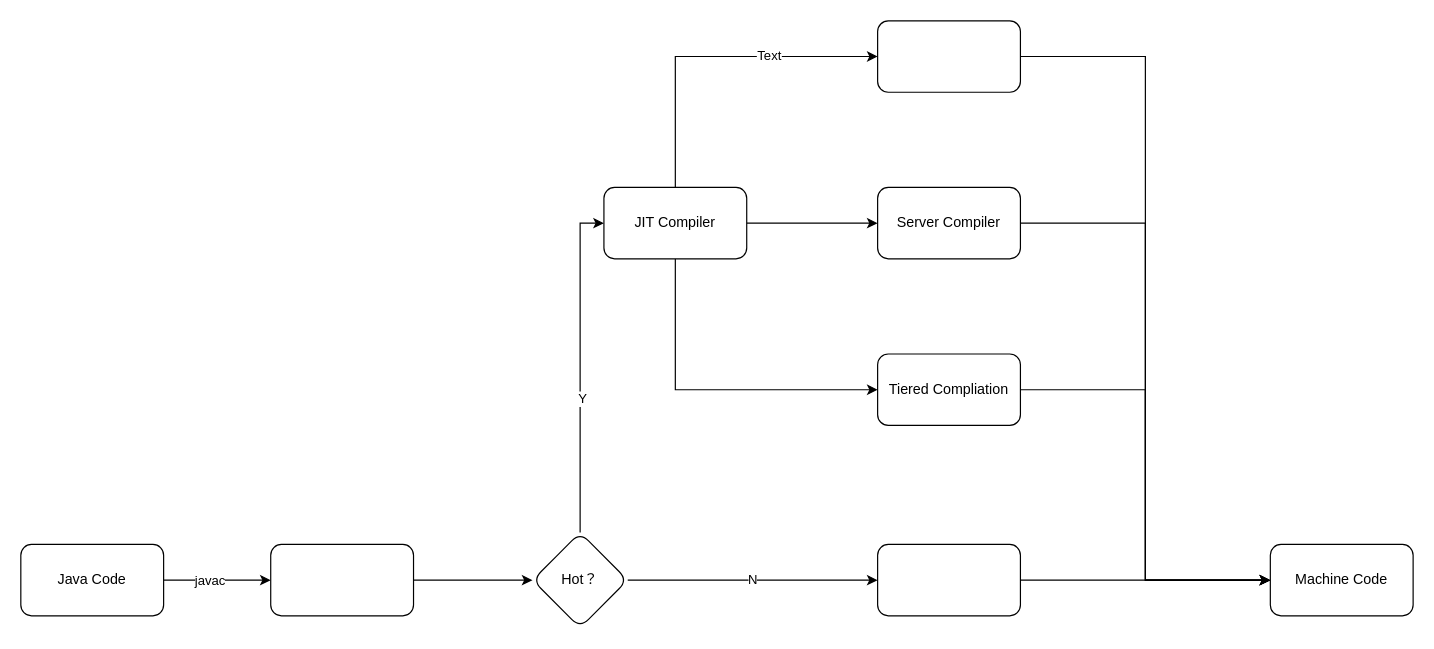
Image size: 1434x649. Some labels were removed from this diagram. The box of each missing label's shape, as (x1, y1, x2, y2) in pixels:
Byte Code: (270, 543, 414, 616)
Client Compiler: (876, 20, 1020, 92)
Interpreter: (876, 543, 1020, 616)
